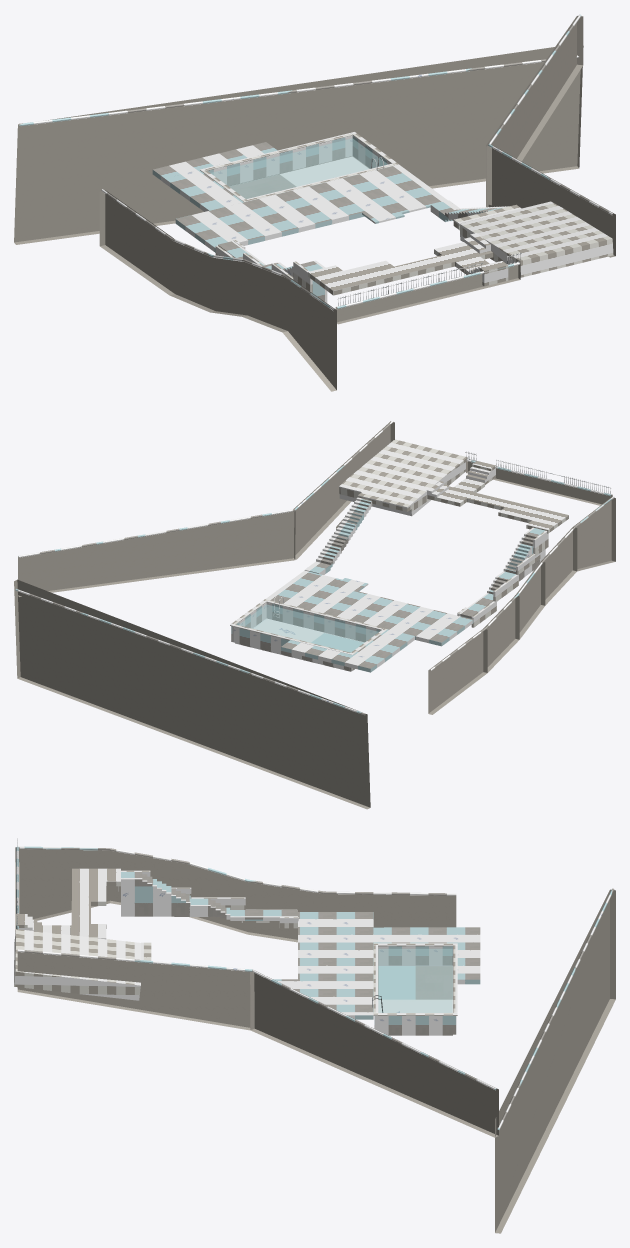
Rendered from garden.glb.
The picture shows the model from 3 angles, top to bottom: view 1: azimuth 30°, elevation 25°; view 2: azimuth 150°, elevation 25°; view 3: azimuth 270°, elevation 25°; orthographic projection. The views are drawn at different scales.
Visible parts, largest first — view 1: garden-other-3, garden-tile-2, garden-other-1, garden-glass-4, garden-metal-0; view 2: garden-other-3, garden-tile-2, garden-other-1, garden-glass-4, garden-metal-0; view 3: garden-other-3, garden-tile-2, garden-other-1, garden-glass-4.
Boxes of the visible parts, x1,y1,x2,y2 form: garden-other-3: (14,16,615,391); garden-tile-2: (19,14,612,310); garden-other-1: (200,132,613,295); garden-glass-4: (211,138,387,198); garden-metal-0: (337,157,521,306); garden-other-3: (14,421,615,809); garden-tile-2: (15,420,614,715); garden-other-1: (230,439,568,654); garden-glass-4: (238,604,378,652); garden-metal-0: (273,451,611,617); garden-other-3: (15,847,615,1233); garden-tile-2: (16,846,614,1130); garden-other-1: (14,868,457,1015); garden-glass-4: (378,948,452,1012).
Bounding box in the file's own units: 36.34 × 13.19 × 39.35.
5 materials, 5 textured.
